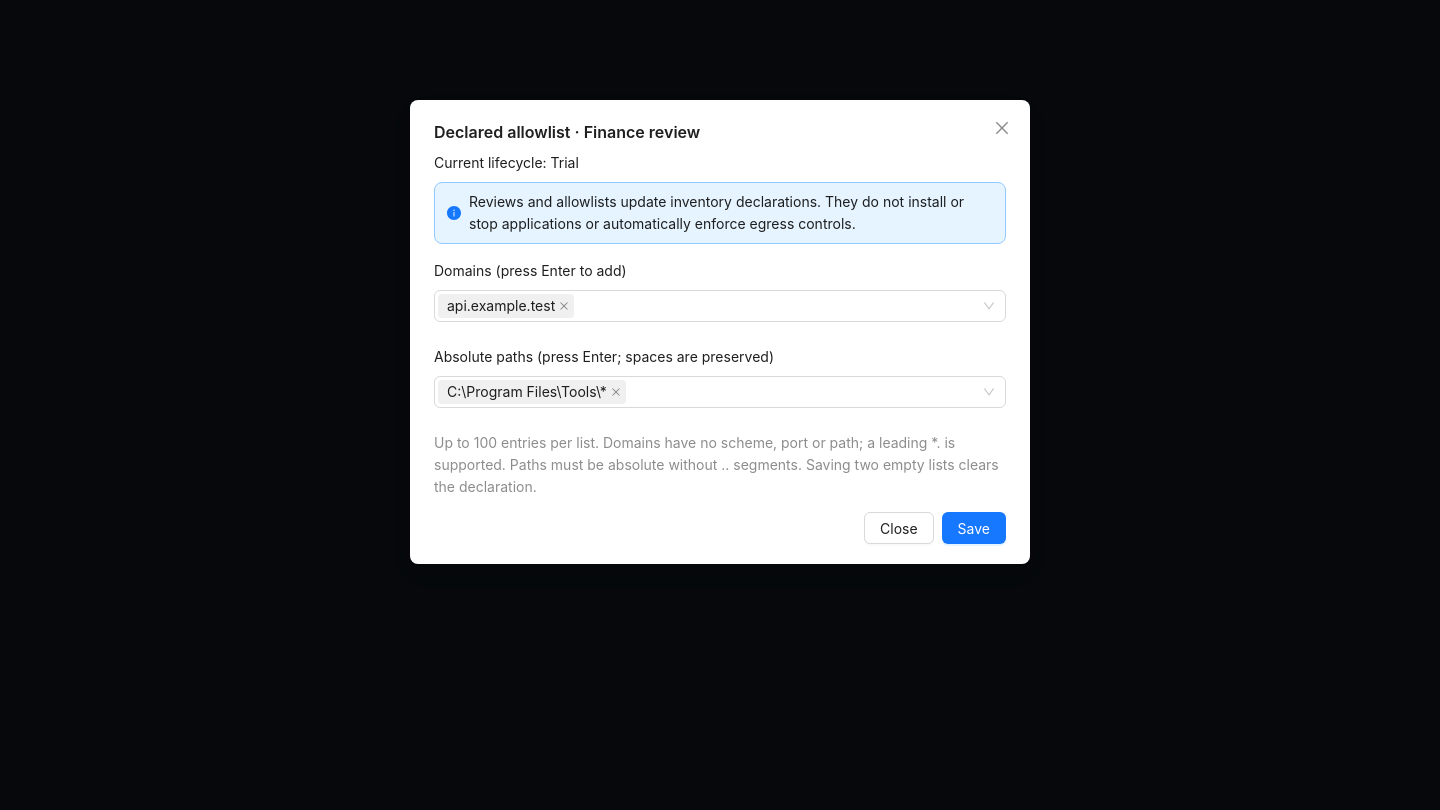
Scenario: keeps paths with spaces intact and releases saving state after a failure
Click the button "Save" at coordinates (974, 528), box [942,512,1006,544]
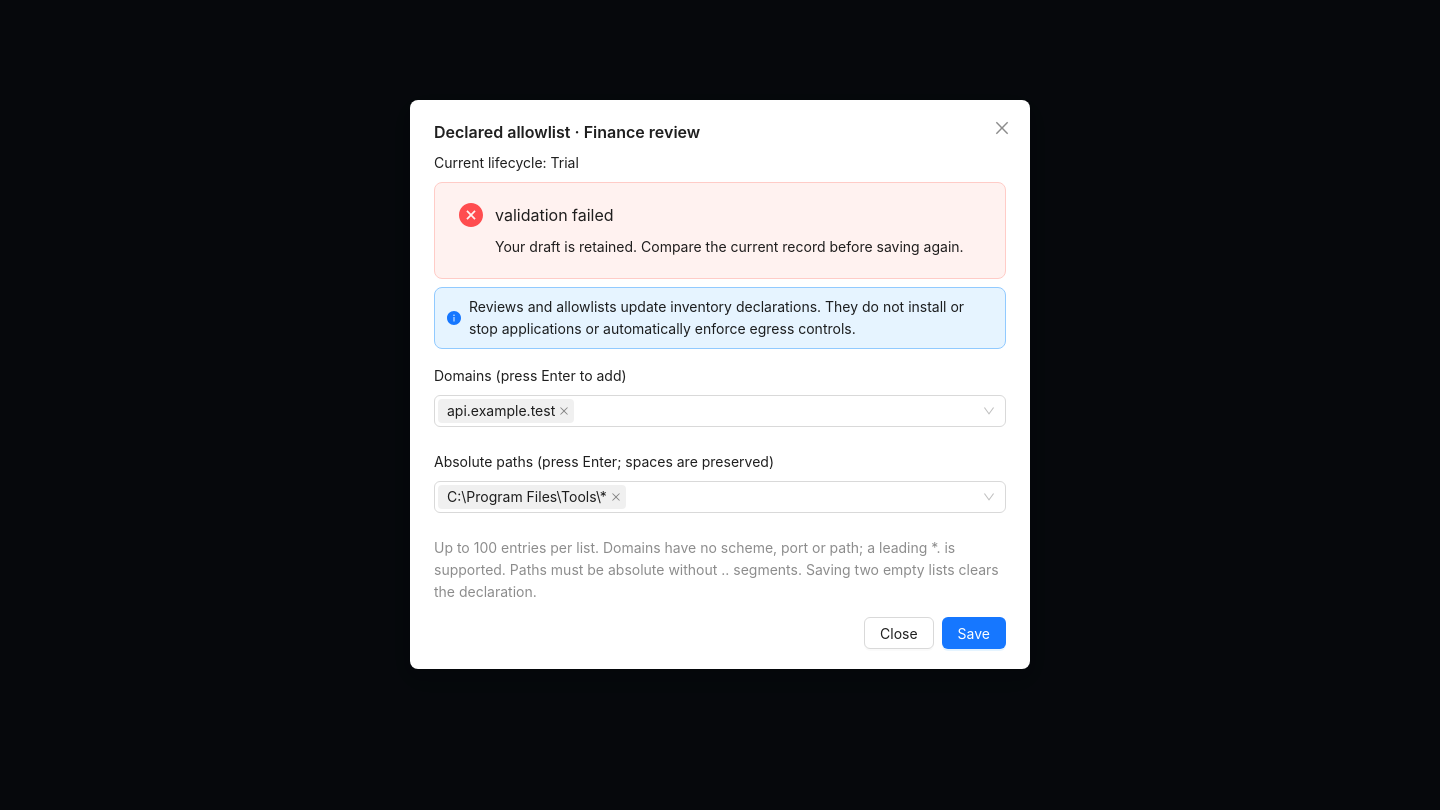
Expected: the button "Save" is enabled, [942,617,1006,649]
Now the text "validation failed" is shown, box [495,205,614,225]
